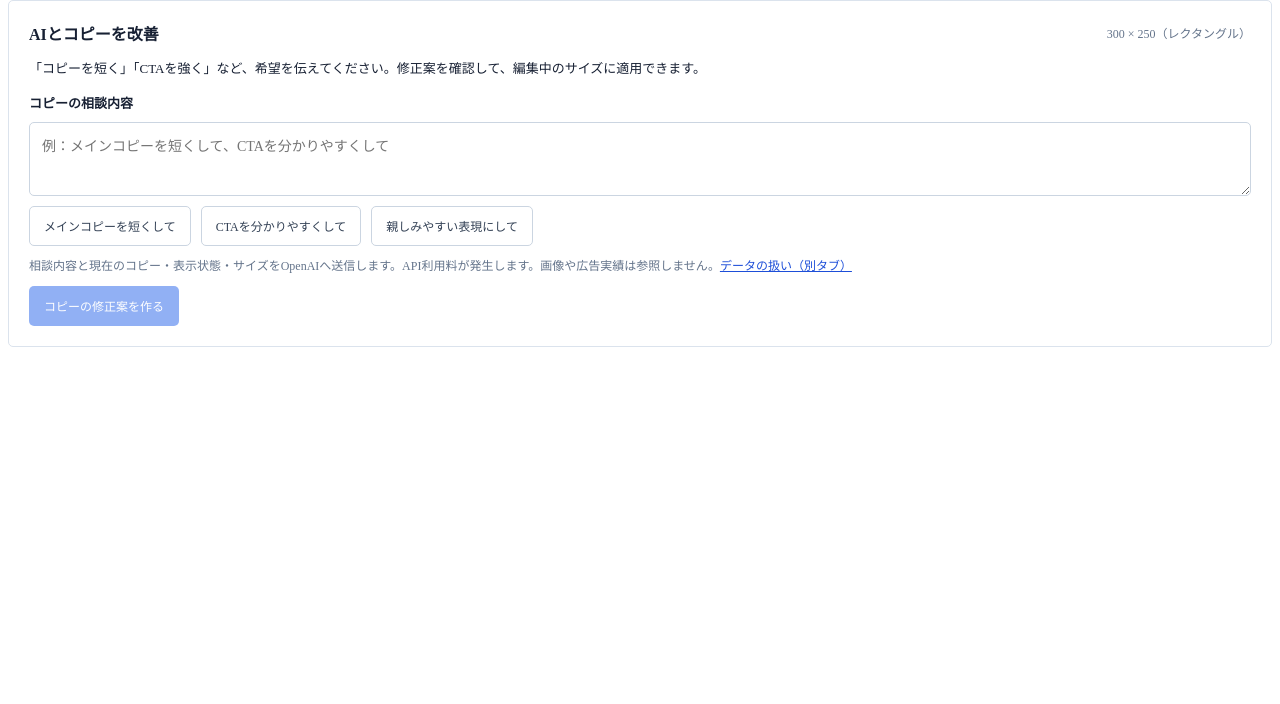
Test case: shows a comparison without applying, applies explicitly once, and can dismiss
The width and height of the screenshot is (1280, 704).
Type "短くして" into the text box labelled "コピーの相談内容" at (640,159), box [29,122,1251,196]
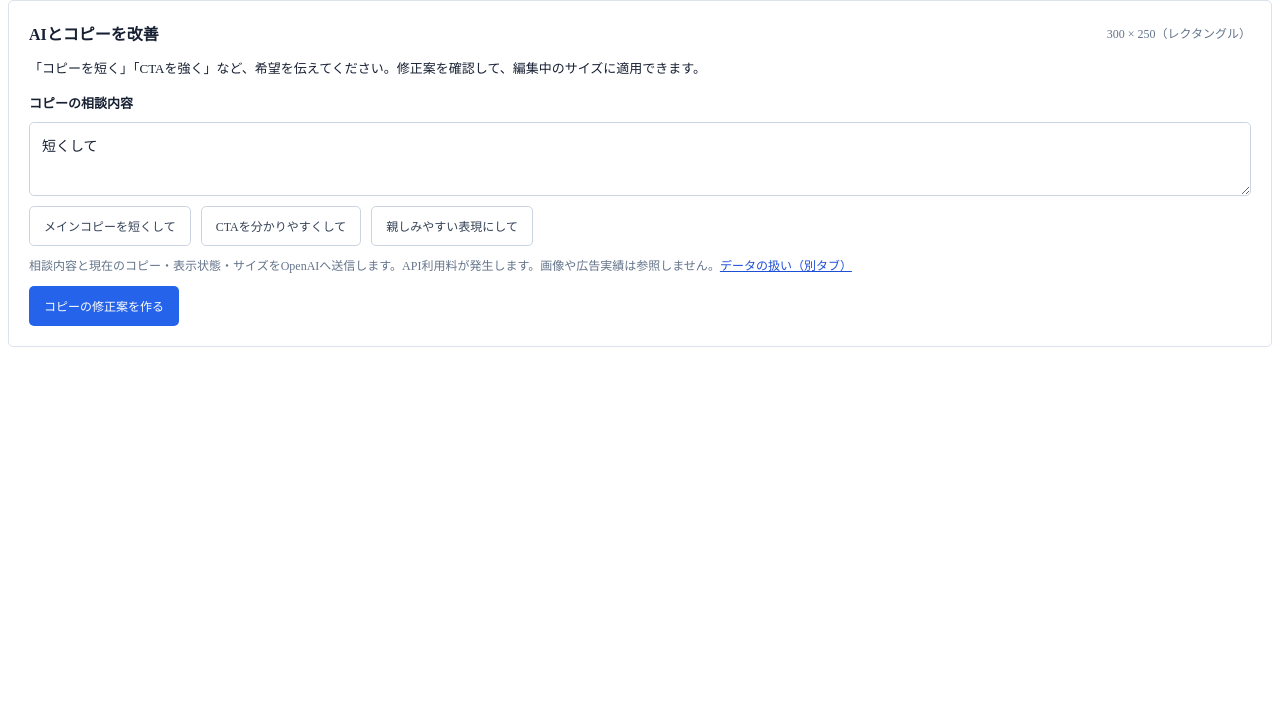
Click the button "コピーの修正案を作る" at (104,306), box [29,286,179,326]
(page scrolled)
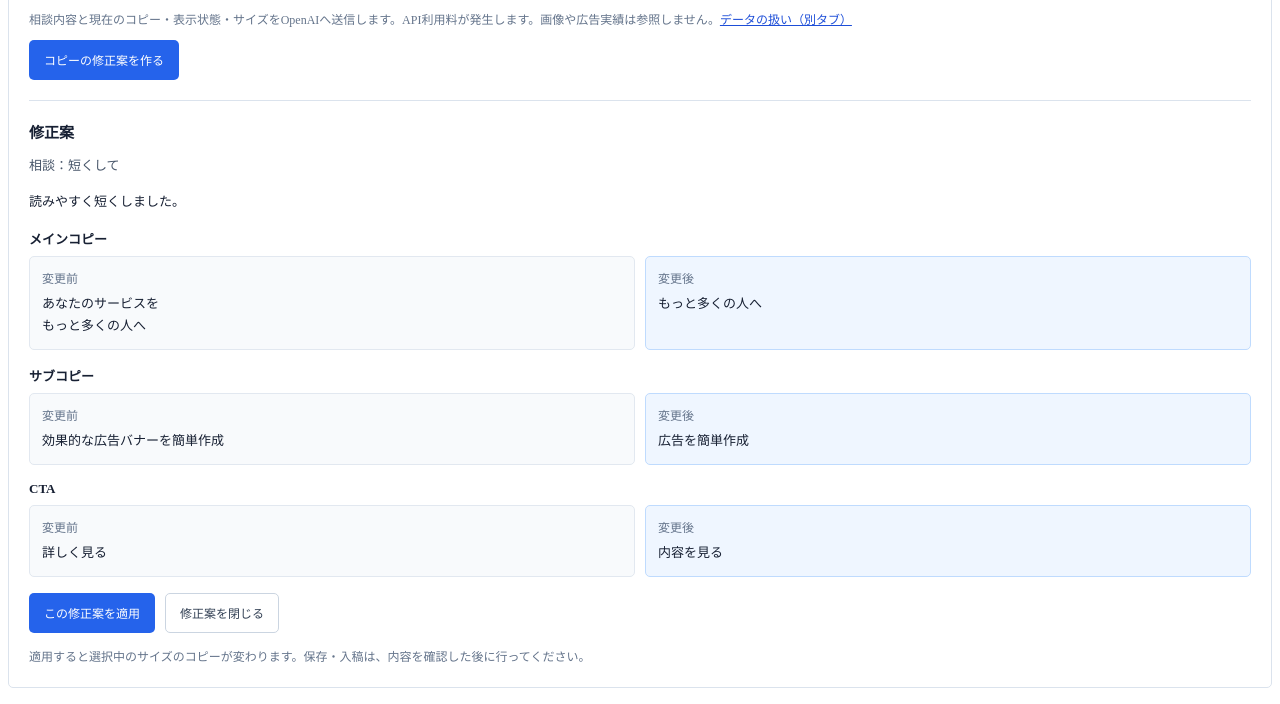
Expected: the text "読みやすく短くしました。" is shown, [29,194,185,209]
Expected: the text "変更前" is shown 3 times, [42,272,78,286]; [42,409,78,423]; [42,521,78,535]
Click the button "この修正案を適用" at (92,613), box [29,593,155,633]
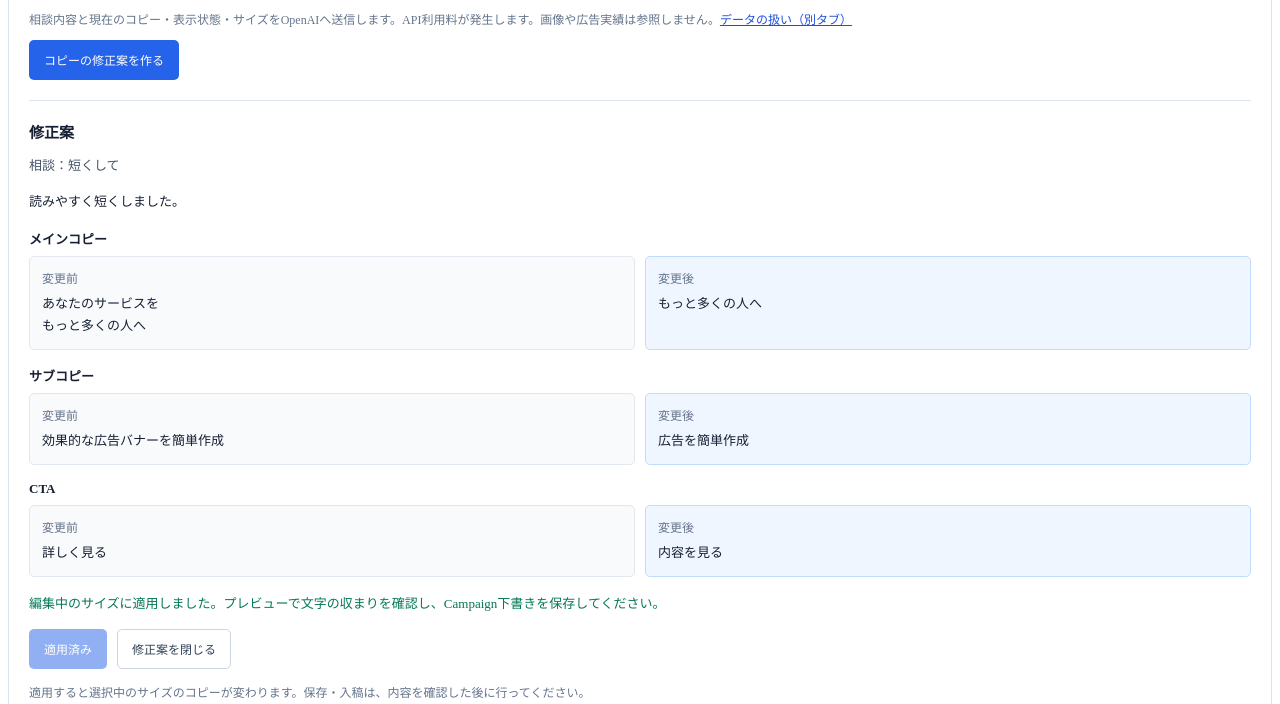
Expected: the button "適用済み" is disabled, [29,629,107,669]
Click the button "修正案を閉じる" at (174,649), box [117,629,231,669]
(page scrolled)
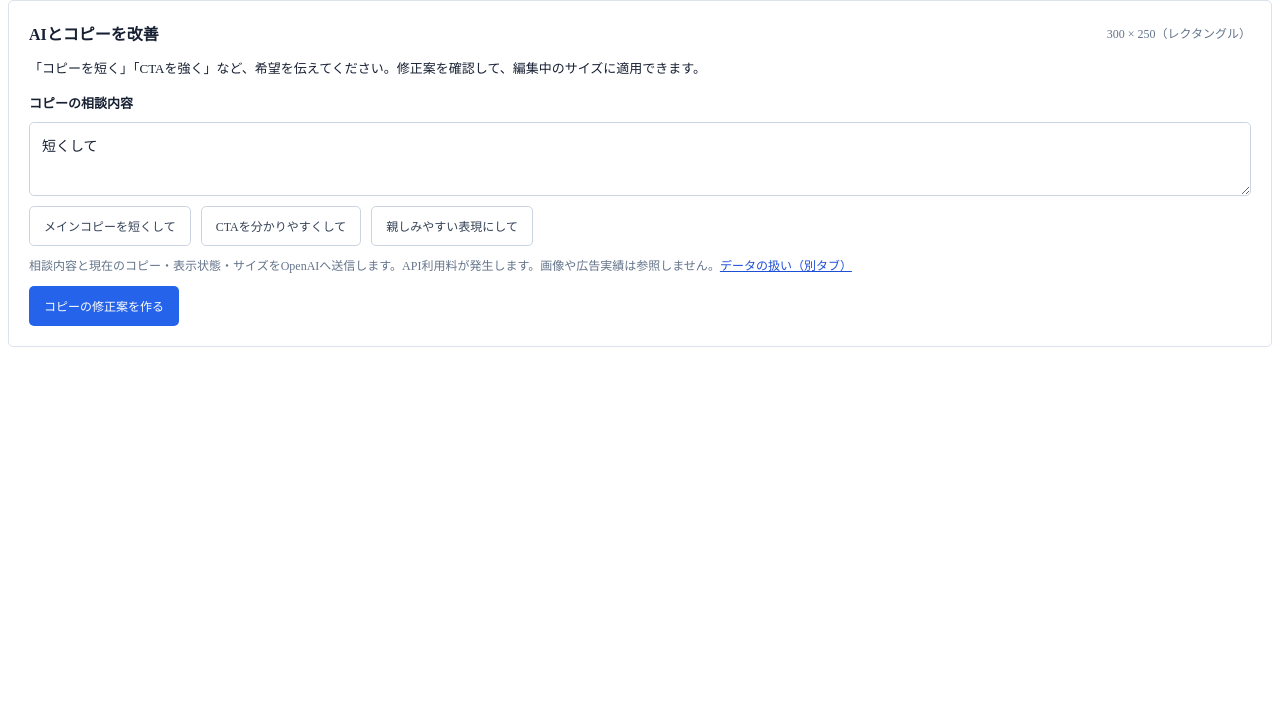
Expected: the text "読みやすく短くしました。" is gone
